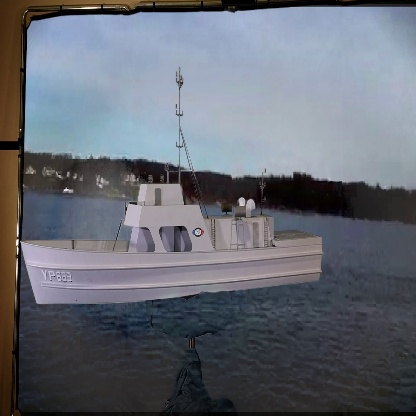YP689: (21, 66, 325, 308)
